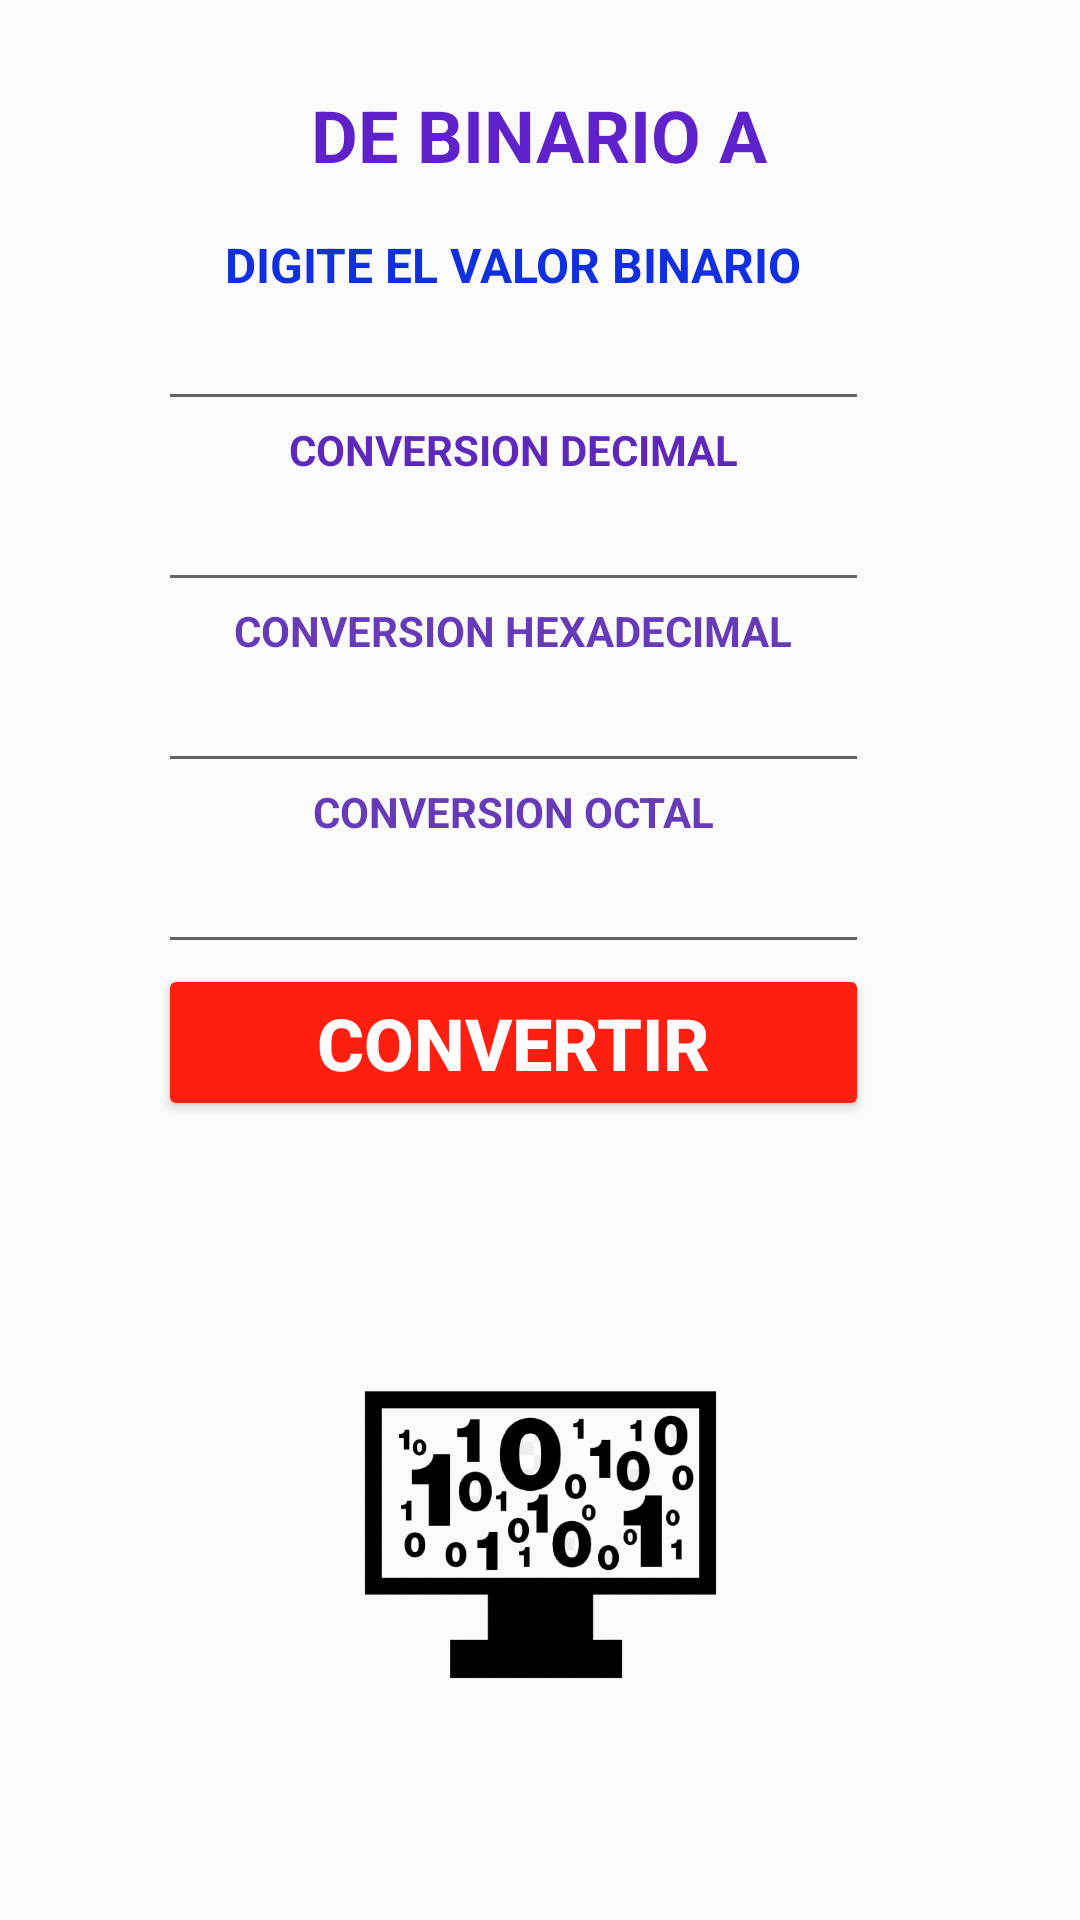

Icon click points for this 1080×1920 phone screenshot, format (x,y):
binario: (540,1535)
